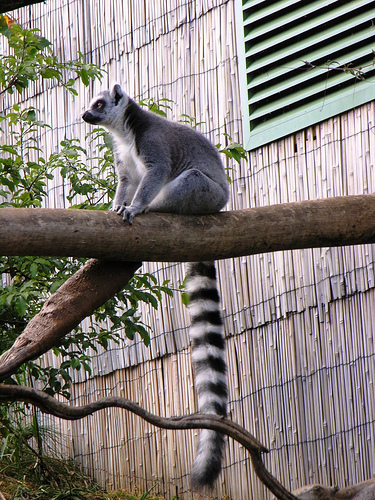cat: (78, 80, 233, 485)
